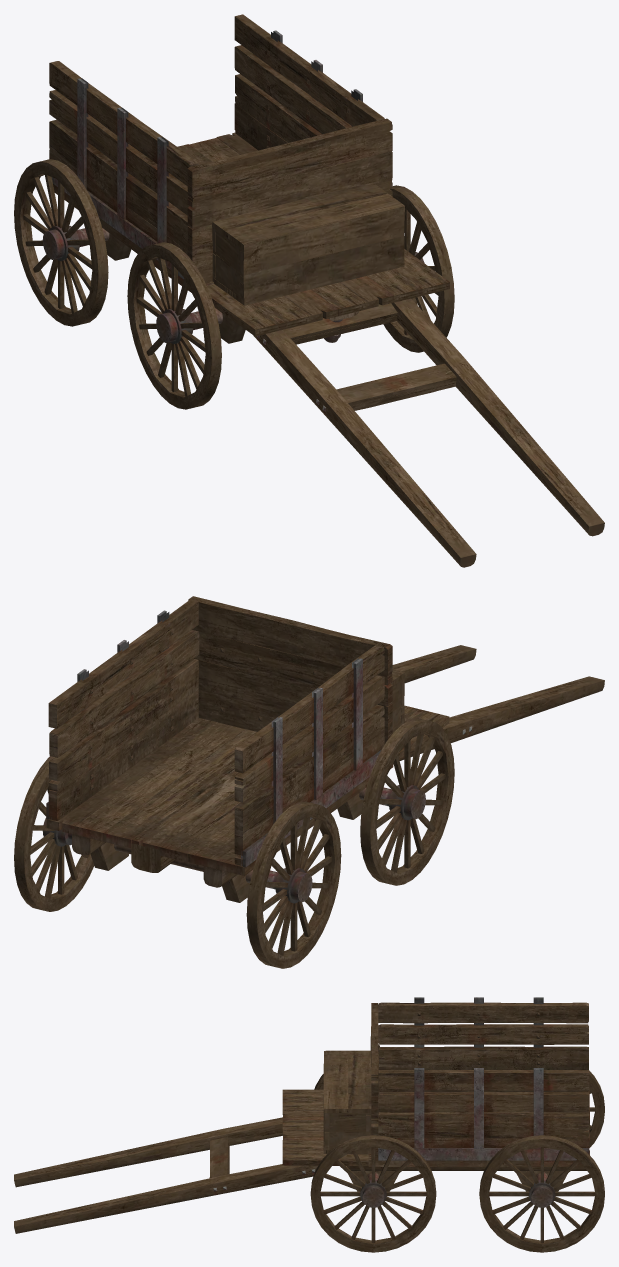
File: Cart2.glb
3 views of the same model, one above another, from view 1: azimuth 30°, elevation 25°; view 2: azimuth 150°, elevation 25°; view 3: azimuth 270°, elevation 25° (orthographic). The views are drawn at different scales.
Parts seen in each view (by area): view 1: CartB; view 2: CartB; view 3: CartB.
Boxes of the visible parts, x1,y1,x2,y2 form: CartB: (14, 14, 604, 567); CartB: (14, 596, 604, 968); CartB: (14, 997, 604, 1252).
Size of the model in its own units: 1.89 by 1.68 by 5.1.
2 materials, 2 textured.
